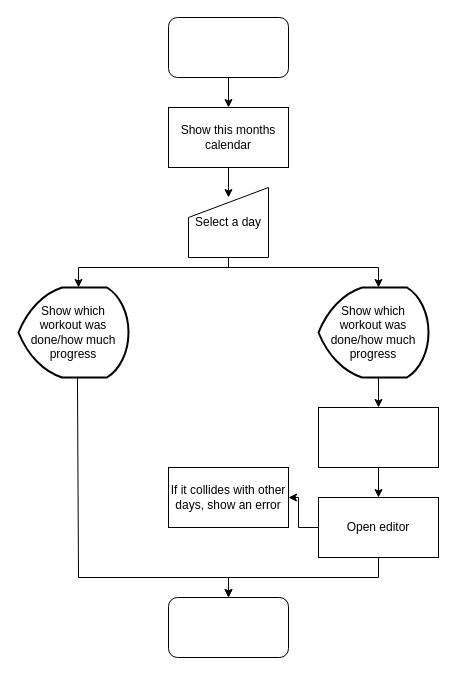
Some shapes in this 456 by 675 pixel diagram are drawn without their labels. The shapes that lost their labels are listed below. From the top down, each one's centre as x and y in pixels, then its label:
At (228,47): "Open calendar page".
At (378,437): "Change which workout will be done on that day".
At (228,627): "End".
